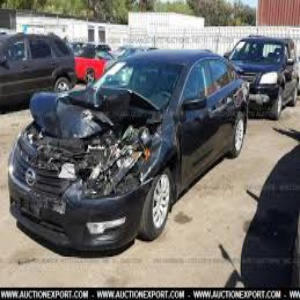bonnet: (29, 78, 146, 137)
